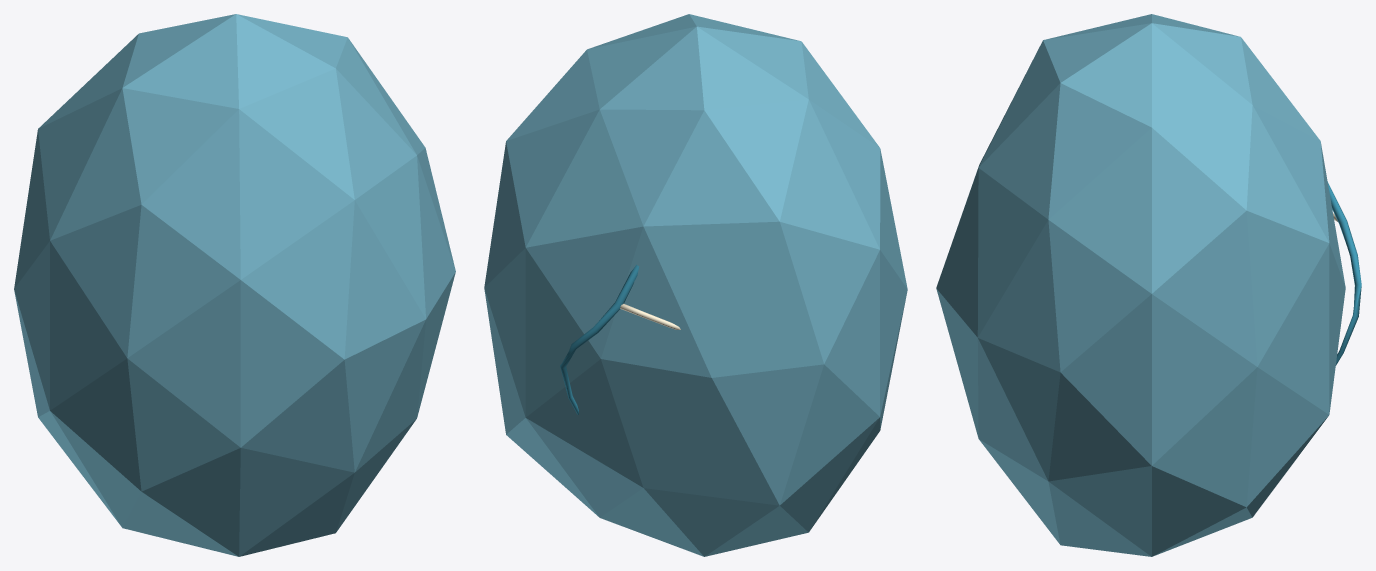
The model's file is Hailstone2.glb.
The picture shows the model from 3 angles, left to right: view 1: azimuth 30°, elevation 25°; view 2: azimuth 150°, elevation 25°; view 3: azimuth 270°, elevation 25°; orthographic projection.
Parts seen in each view (by area): view 1: Hailstone2__Body; view 2: Hailstone2__Body; view 3: Hailstone2__Body.
Boxes of the visible parts, x1=… form: Hailstone2__Body: x1=14, y1=14, x2=455, y2=556; Hailstone2__Body: x1=484, y1=14, x2=907, y2=556; Hailstone2__Body: x1=936, y1=14, x2=1361, y2=556.
Size of the model in its own units: 0.9469 by 1.28 by 0.9344.
1 material, 1 textured.
